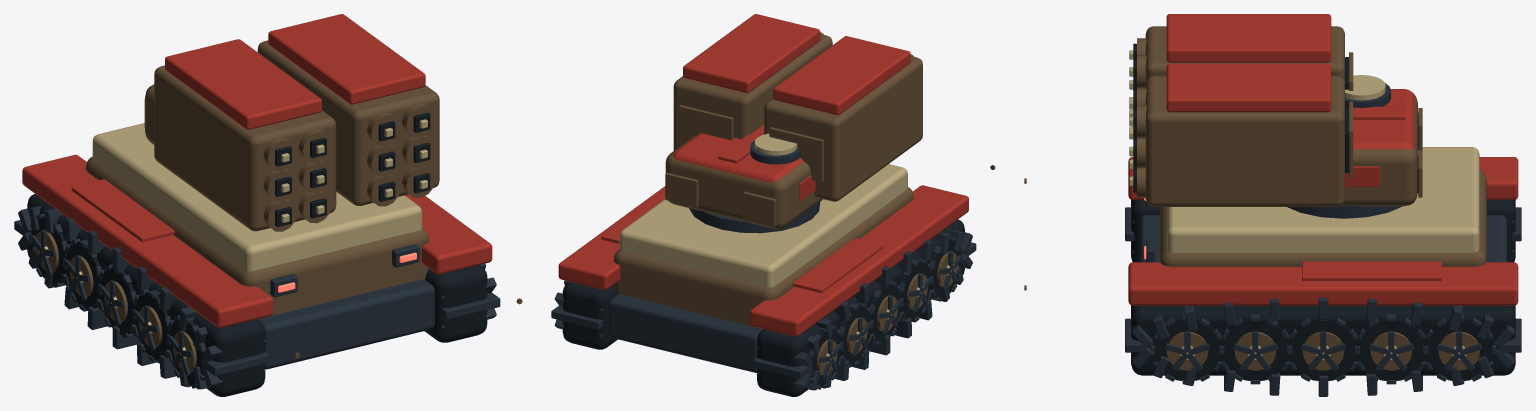
Rendered from artillery-1.glb.
3 views of the same model, side by side, from view 1: azimuth 30°, elevation 25°; view 2: azimuth 150°, elevation 25°; view 3: azimuth 270°, elevation 25° (orthographic). The views are drawn at different scales.
Parts seen in each view (by area): view 1: CeramicHull_2, RocketPodCasing_370, CeramicTrackGuard_139, HullBronze_1, TrackedChassis_0, RocketPodEnamel_403, RocketPodEnamel_371, RocketPodCasing_402, TrackCavity_3, CeramicTrackGuard_304, TrackCavity_168, GuardStripe_140 (+20 smaller); view 2: CeramicHull_2, RocketPodCasing_370, CeramicTrackGuard_139, HullBronze_1, TrackedChassis_0, RocketPodEnamel_403, RocketPodEnamel_371, TurretHousing_350, RocketPodCasing_402, TrackCavity_3, CeramicTrackGuard_304, TurretCeramic_351 (+18 smaller); view 3: RocketPodCasing_402, CeramicHull_2, CeramicTrackGuard_304, RocketPodEnamel_403, RocketPodEnamel_371, TrackCavity_168, HullBronze_1, TurretHousing_350, GuardStripe_305, TurretCeramic_351, RocketPodCasing_370, Tyre_250 (+17 smaller).
Part boxes in pixels (x1,y1,x2,y2): CeramicHull_2: [92, 123, 422, 271]; RocketPodCasing_370: [154, 65, 336, 231]; CeramicTrackGuard_139: [22, 154, 273, 327]; HullBronze_1: [85, 156, 428, 319]; TrackedChassis_0: [258, 279, 434, 369]; RocketPodEnamel_403: [268, 14, 425, 104]; RocketPodEnamel_371: [165, 39, 321, 129]; RocketPodCasing_402: [257, 40, 439, 205]; TrackCavity_3: [27, 194, 265, 396]; CeramicTrackGuard_304: [405, 194, 492, 274]; TrackCavity_168: [424, 265, 487, 342]; GuardStripe_140: [71, 179, 174, 242]; CeramicHull_2: [619, 164, 907, 287]; RocketPodCasing_370: [764, 56, 922, 201]; CeramicTrackGuard_139: [750, 185, 968, 336]; HullBronze_1: [614, 187, 913, 329]; TrackedChassis_0: [608, 294, 762, 372]; RocketPodEnamel_403: [683, 14, 820, 93]; RocketPodEnamel_371: [773, 36, 910, 115]; TurretHousing_350: [665, 135, 822, 229]; RocketPodCasing_402: [673, 34, 832, 150]; TrackCavity_3: [757, 219, 964, 396]; CeramicTrackGuard_304: [558, 186, 665, 289]; TurretCeramic_351: [673, 133, 803, 182]; RocketPodCasing_402: [1145, 76, 1344, 206]; CeramicHull_2: [1167, 147, 1479, 252]; CeramicTrackGuard_304: [1128, 262, 1518, 305]; RocketPodEnamel_403: [1166, 63, 1331, 112]; RocketPodEnamel_371: [1166, 14, 1331, 62]; TrackCavity_168: [1131, 305, 1515, 375]; HullBronze_1: [1160, 169, 1486, 266]; TurretHousing_350: [1342, 92, 1417, 206]; GuardStripe_305: [1302, 261, 1441, 280]; TurretCeramic_351: [1353, 89, 1414, 149]; RocketPodCasing_370: [1145, 26, 1344, 83]; Tyre_250: [1221, 318, 1289, 380].
Size of the model in its own units: 1.92 by 1.73 by 2.87.
